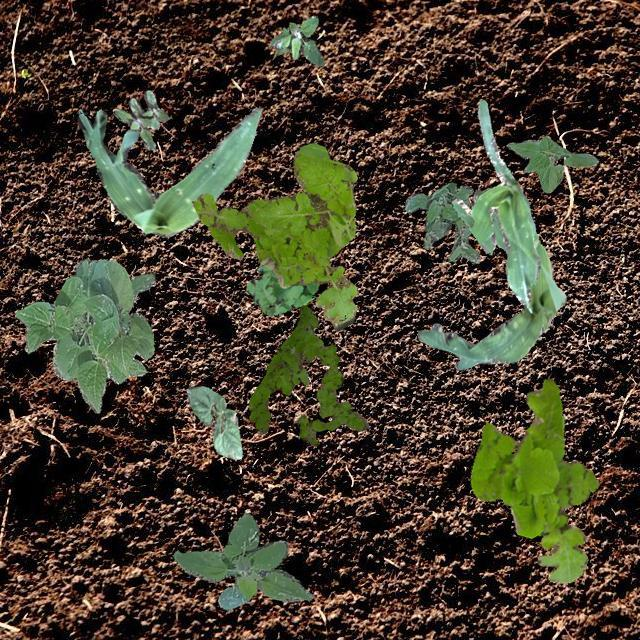crop: (416, 188, 566, 368), (77, 108, 260, 236), (14, 258, 152, 412), (450, 100, 540, 306), (506, 134, 598, 192), (186, 384, 242, 458)
weed: (190, 142, 357, 330), (470, 376, 598, 582), (172, 512, 312, 608), (248, 304, 322, 432), (298, 342, 368, 444), (404, 182, 478, 262), (244, 264, 318, 314), (114, 90, 168, 148), (268, 15, 324, 64), (118, 272, 154, 330)
